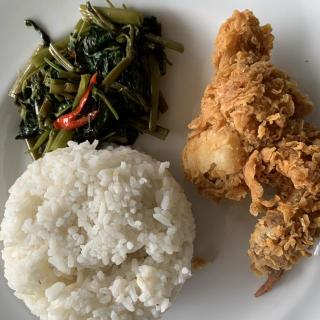Nasi: (1, 144, 199, 320)
